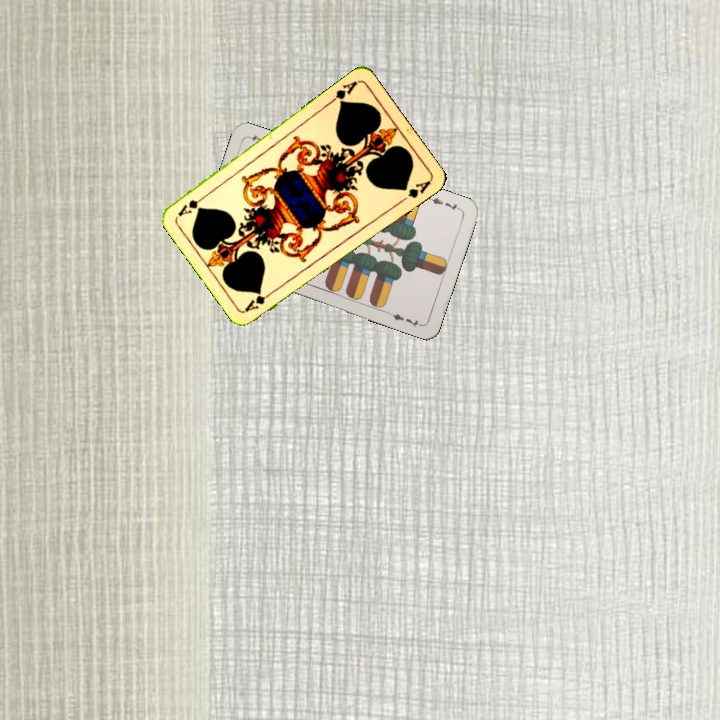E7: (424, 193, 464, 214)
GA: (325, 76, 360, 108), (241, 286, 278, 314)
